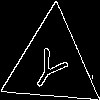Y: (26, 39, 75, 96)
